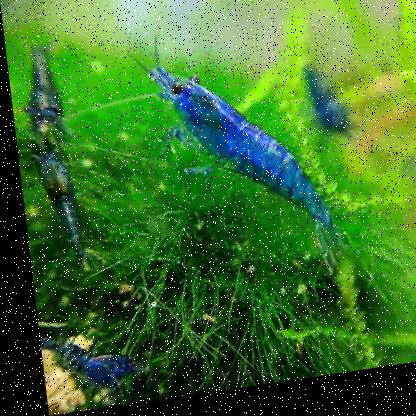shrimp: (137, 50, 336, 269)
